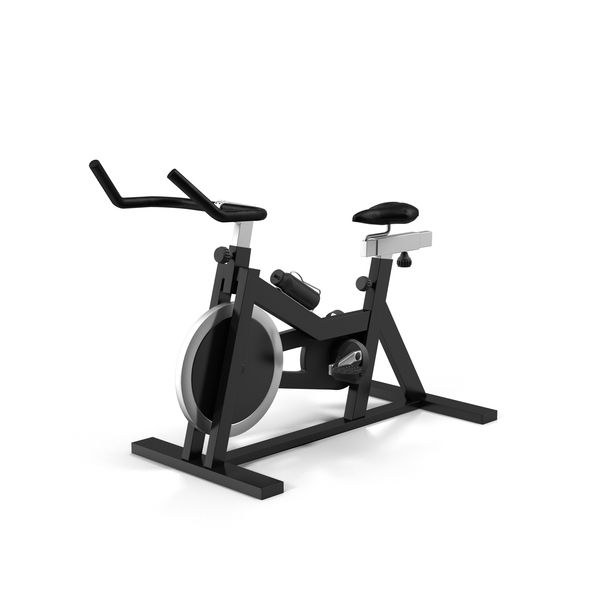gym_bike: (81, 144, 506, 513)
